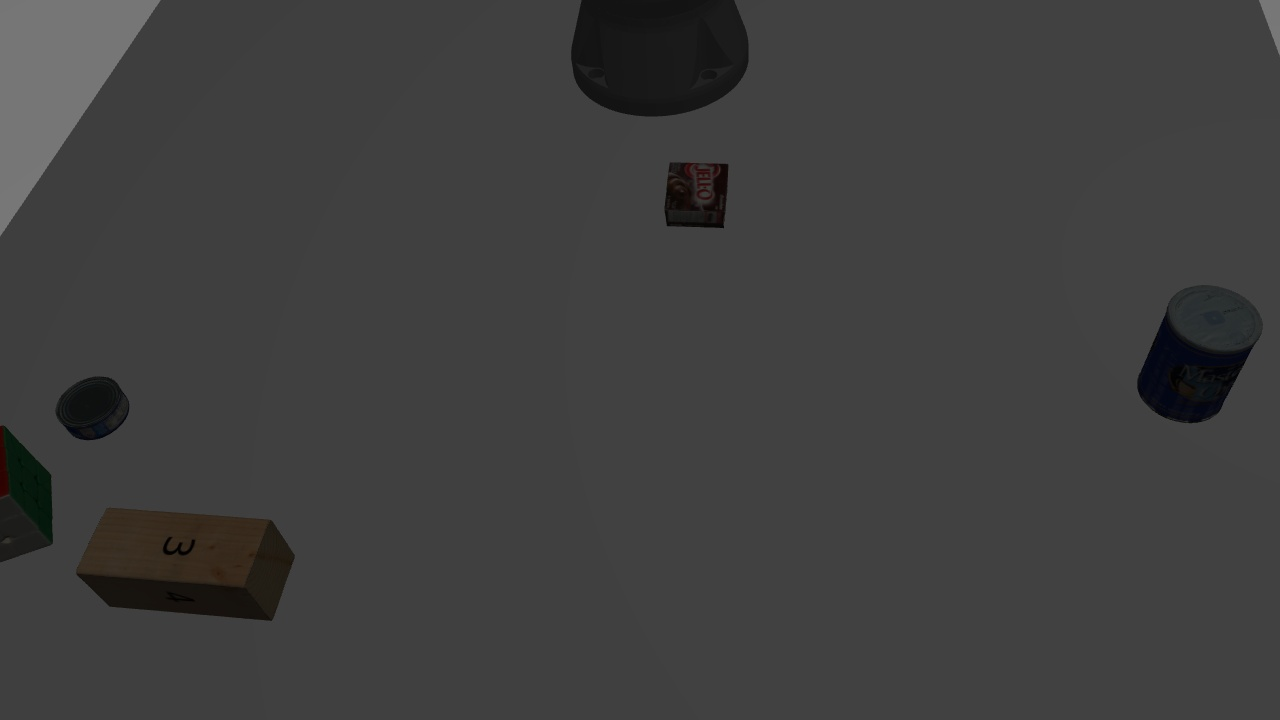master_chef_can: (1150, 267, 1251, 436)
pudding_box: (657, 153, 728, 228)
rubiks_cube: (2, 431, 51, 567)
wood_block: (76, 491, 302, 621)
